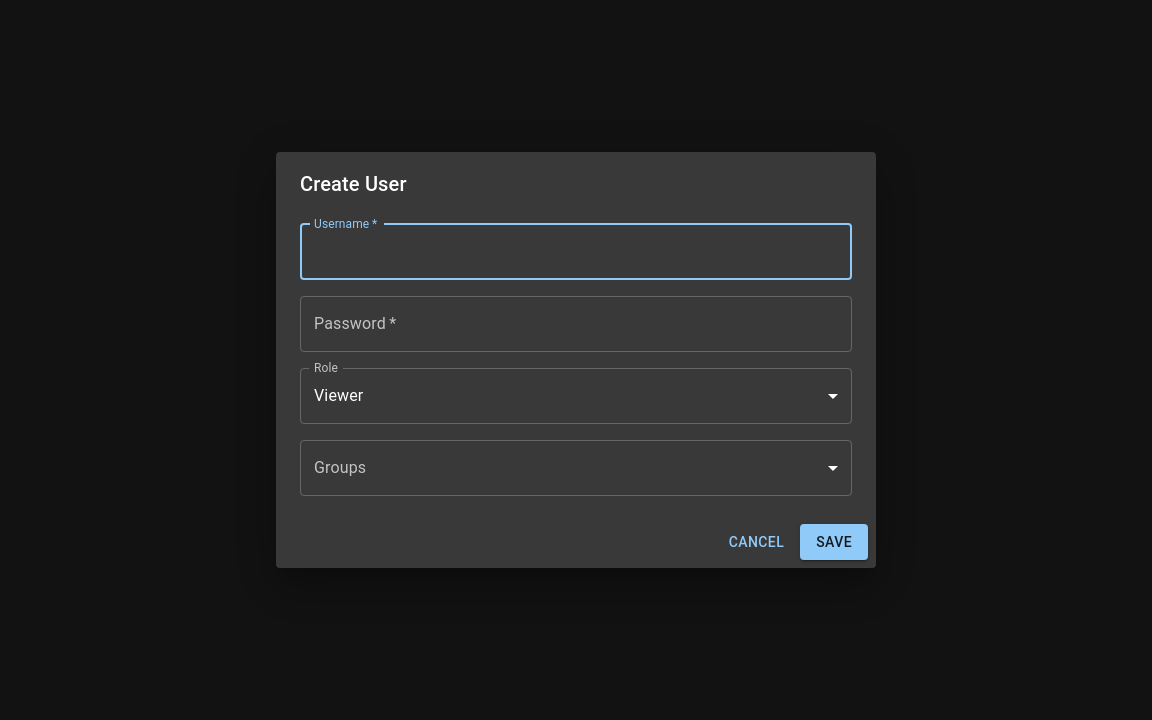
UserDialog › Create mode › displays API error on create failure
In the field labelled "Username *": (576, 252) [300, 224, 852, 280], type "existinguser"
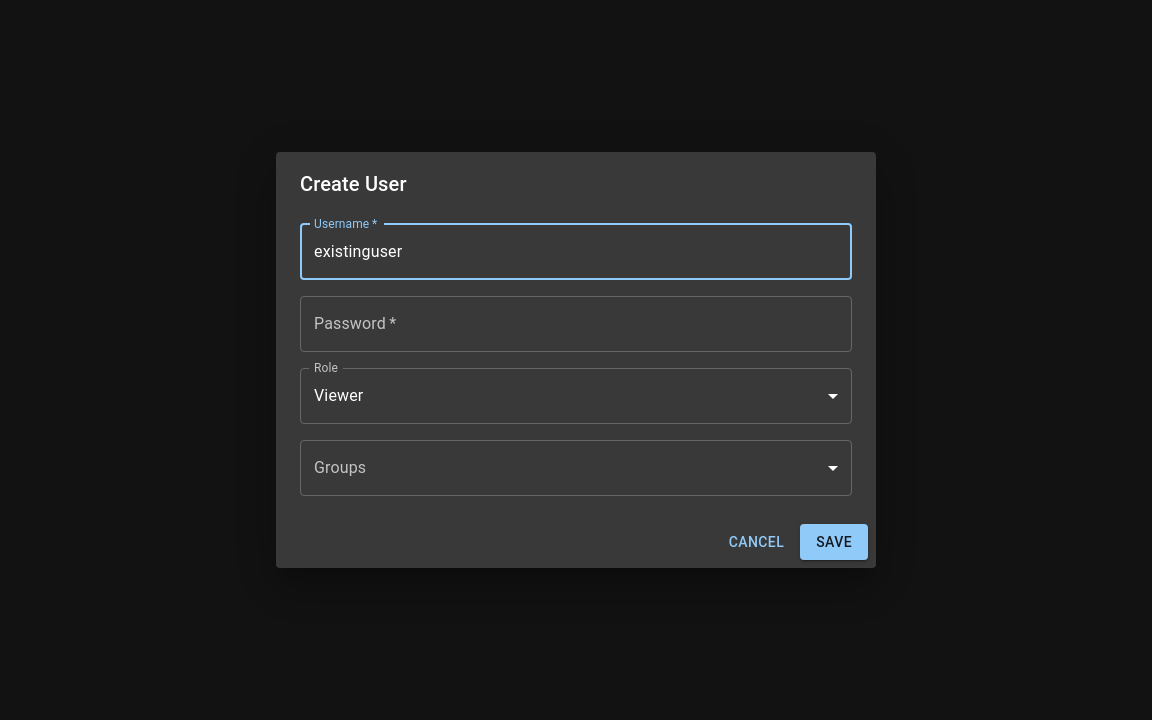
In the password field labelled "Password *": (576, 324) [300, 296, 852, 352], type "password123"
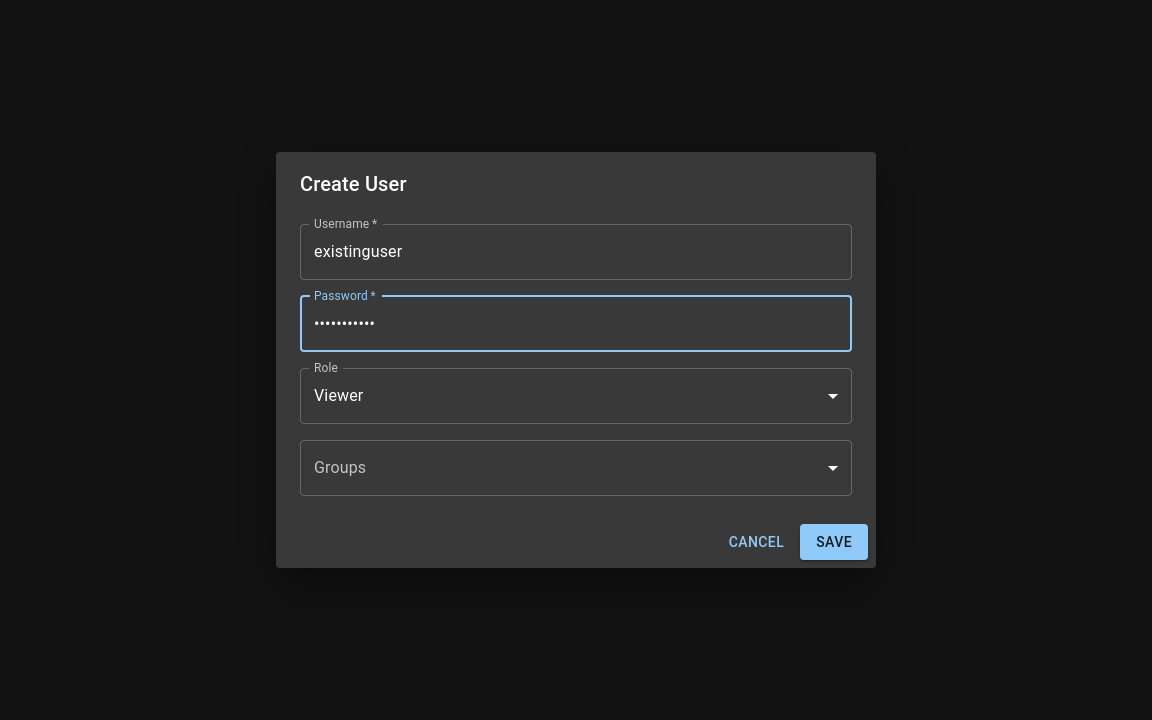
Click the button "Save": (834, 542) [800, 524, 868, 560]
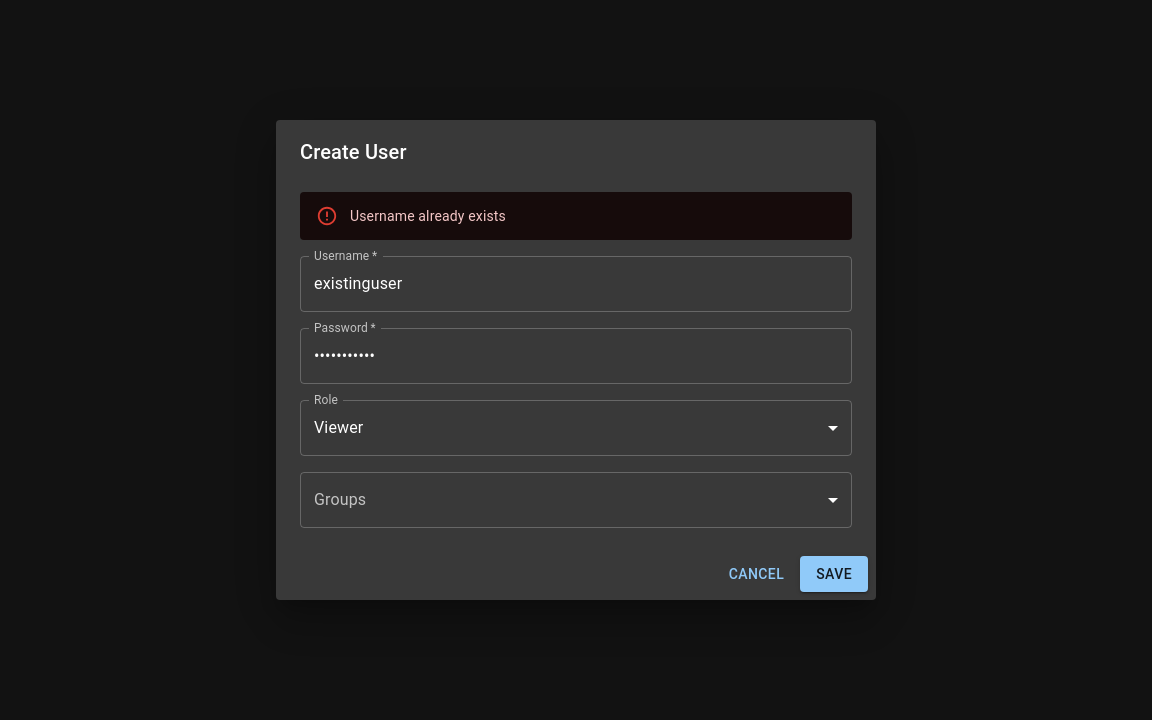
Expected: the text "Username already exists" is shown, [350, 208, 506, 224]
